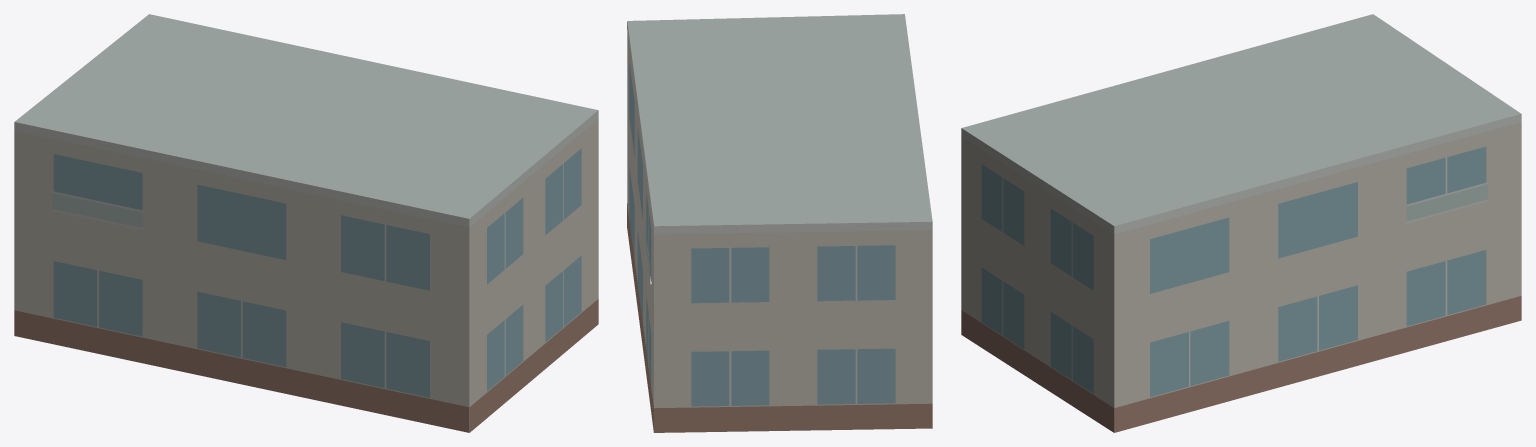
Rendered from survey-upis-32619282.glb.
3 renders of one model, left to right at view 1: azimuth 30°, elevation 25°; view 2: azimuth 150°, elevation 25°; view 3: azimuth 270°, elevation 25°, orthographic. The views are drawn at different scales.
Parts seen in each view (by area): view 1: survey-upis-32619282.tmp; view 2: survey-upis-32619282.tmp; view 3: survey-upis-32619282.tmp.
Boxes of the visible parts, bbox=[...] form: survey-upis-32619282.tmp: bbox=[14, 14, 598, 432]; survey-upis-32619282.tmp: bbox=[627, 14, 932, 432]; survey-upis-32619282.tmp: bbox=[961, 14, 1521, 432].
Bounding box in the file's own units: 13.44 × 6.1 × 14.99.
